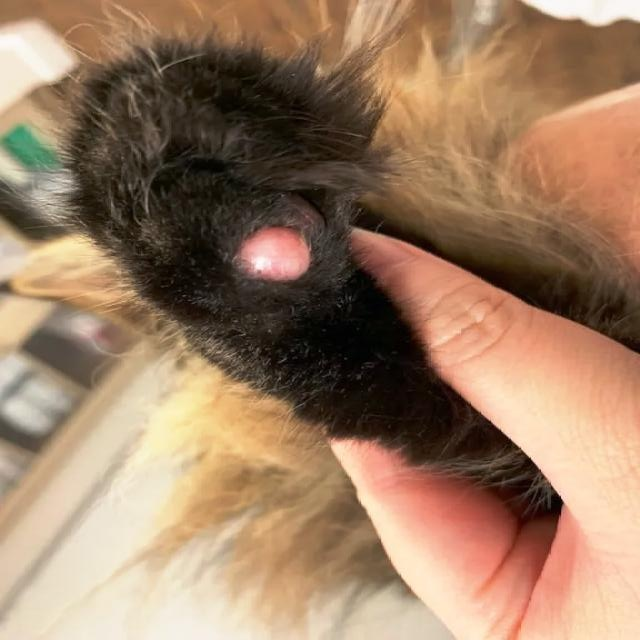lump_and_bump: (229, 226, 315, 280)
